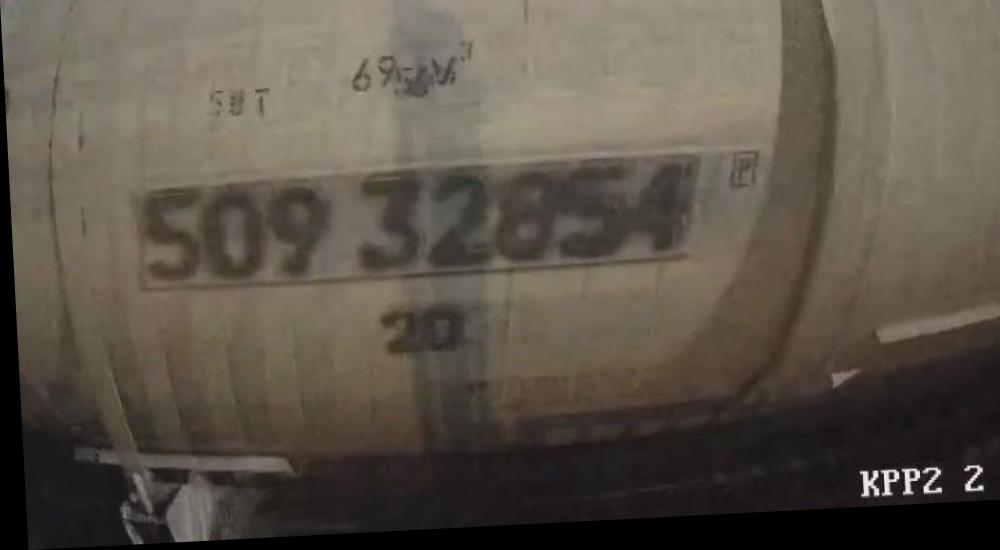Wagon-number: (132, 160, 697, 295)
